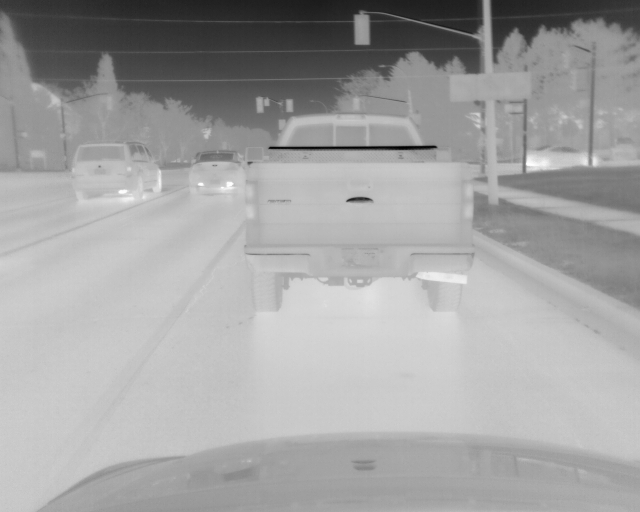car: (240, 111, 477, 315), (71, 139, 164, 200), (188, 147, 248, 193), (526, 143, 601, 171)
